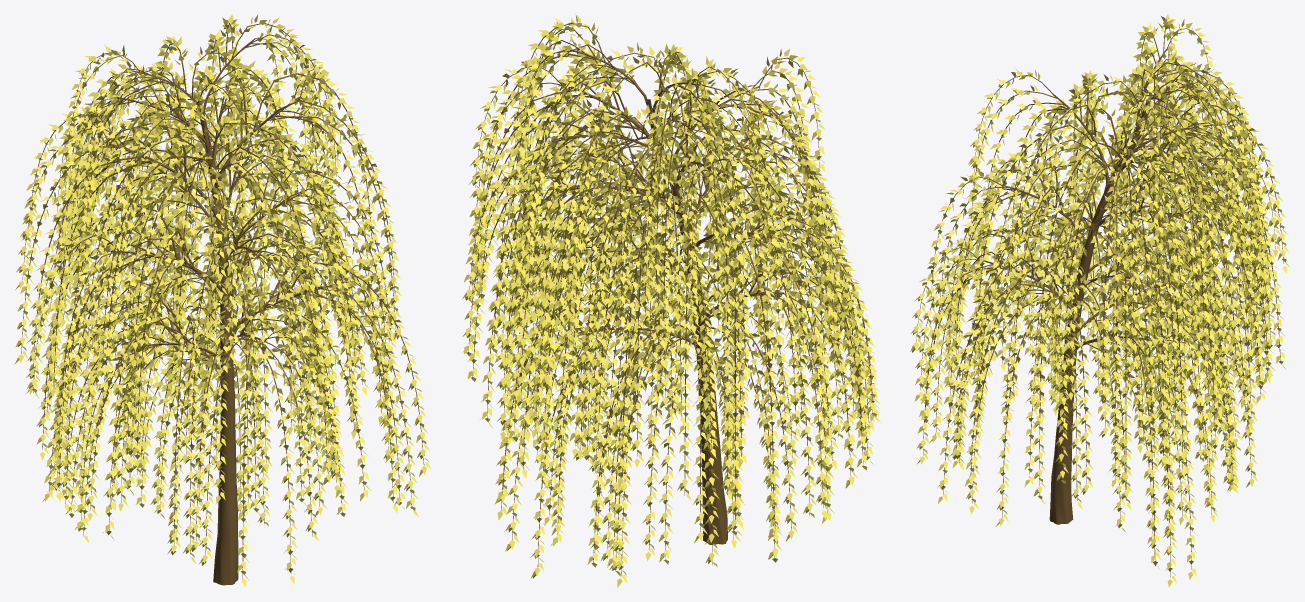
File: Willow.FBX
3 renders of one model, left to right at view 1: azimuth 30°, elevation 25°; view 2: azimuth 150°, elevation 25°; view 3: azimuth 270°, elevation 25°, orthographic. The views are drawn at different scales.
Visible parts, largest first — view 1: Foliage001; view 2: Foliage001; view 3: Foliage001.
Boxes of the visible parts, bbox=[...] form: Foliage001: bbox=[14, 14, 430, 587]; Foliage001: bbox=[462, 14, 880, 587]; Foliage001: bbox=[910, 14, 1290, 587].
Bounding box in the file's own units: 409 × 566 × 394.
